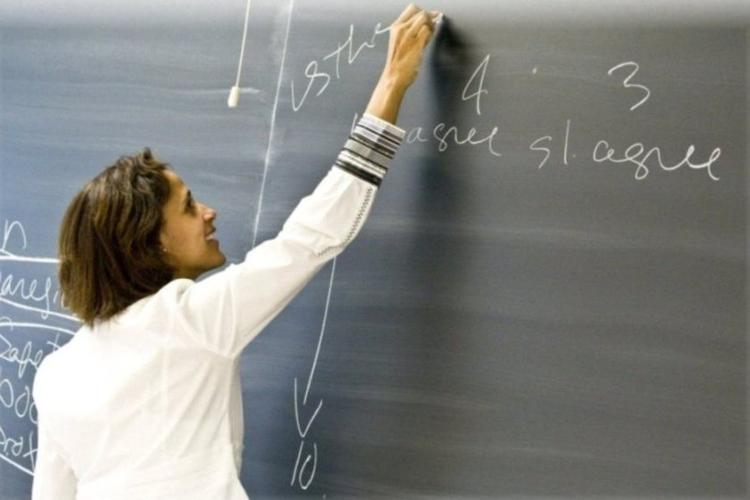person: (86, 30, 497, 500)
